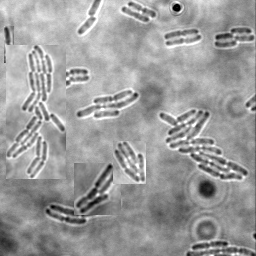Dividing: (128, 1, 157, 18), (166, 34, 202, 47), (164, 28, 200, 39), (192, 239, 229, 249), (4, 26, 14, 63), (67, 67, 89, 81)
Microcolony: (6, 45, 66, 179), (158, 109, 249, 180), (74, 163, 121, 215), (76, 88, 139, 119), (45, 199, 121, 224), (113, 141, 146, 184), (214, 27, 255, 48)
Rod: (121, 5, 150, 23), (78, 16, 99, 34), (69, 73, 90, 82)
